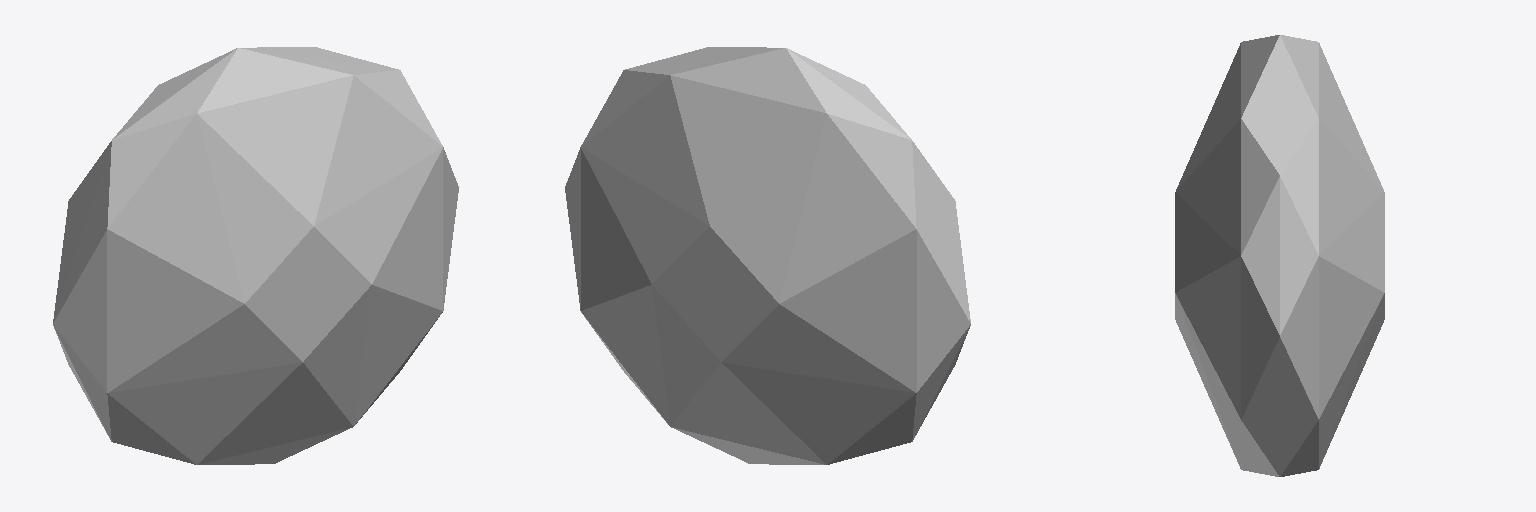
The model's file is medal.obj.
3 renders of one model, left to right at view 1: azimuth 30°, elevation 25°; view 2: azimuth 150°, elevation 25°; view 3: azimuth 270°, elevation 25°, orthographic.
Parts seen in each view (by area): view 1: Cube.001; view 2: Cube.001; view 3: Cube.001.
Part boxes in pixels (left/top/right/bottom): Cube.001: left=53, top=47, right=458, bottom=464; Cube.001: left=565, top=47, right=970, bottom=464; Cube.001: left=1175, top=35, right=1384, bottom=476.
Size of the model in its own units: 2.42 by 2.42 by 1.08.